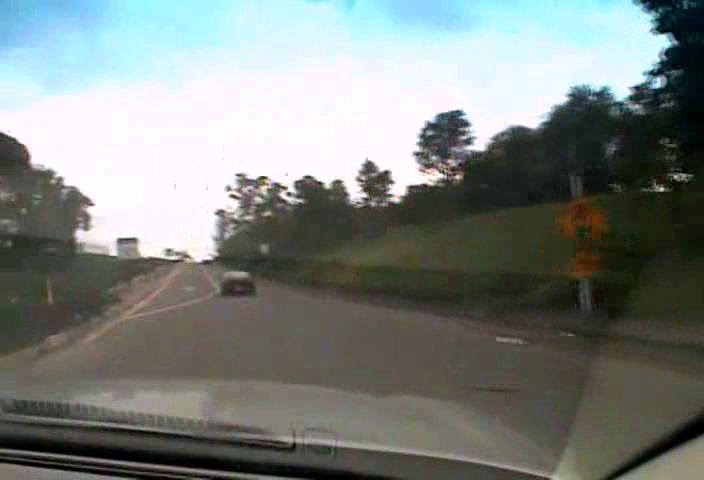signalAhead: (554, 201, 608, 247)
